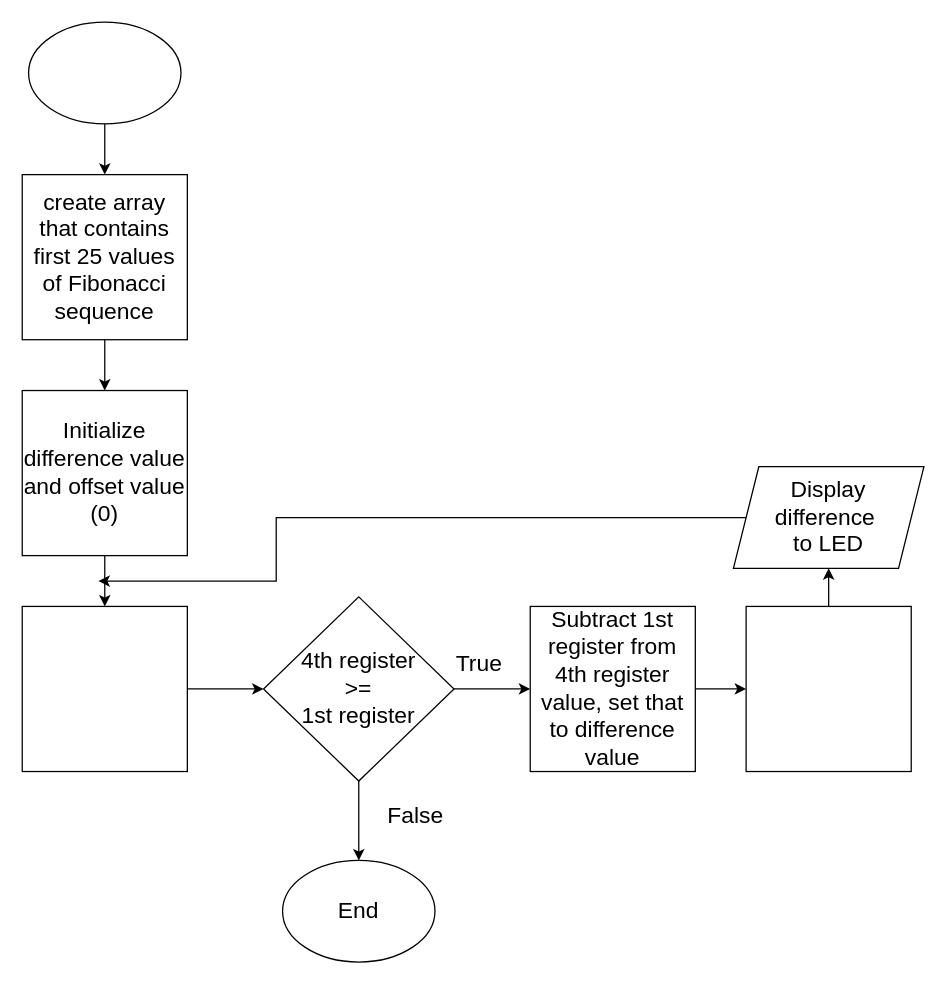
The diagram is 946 pixels wide and 984 high, and some of its shapes have lost their labels. Each missing label, with the centre of its shape:
"Access 1st and 4th registers with offset value" belongs at (x=104, y=688).
"Increment offset value by 1" belongs at (x=828, y=688).
"Start" belongs at (x=104, y=72).
